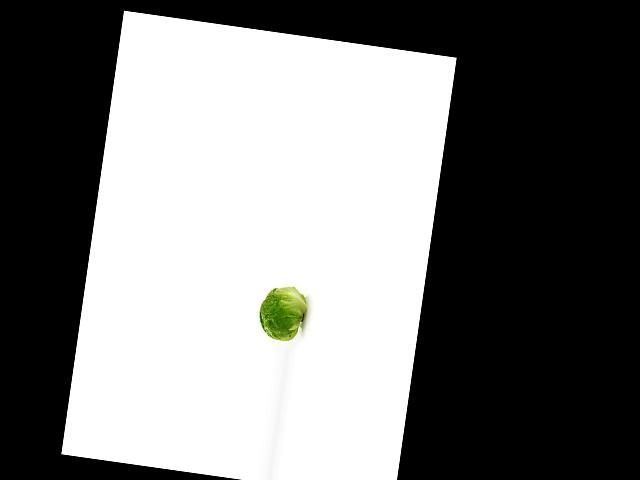lettuce: (253, 282, 306, 349)
